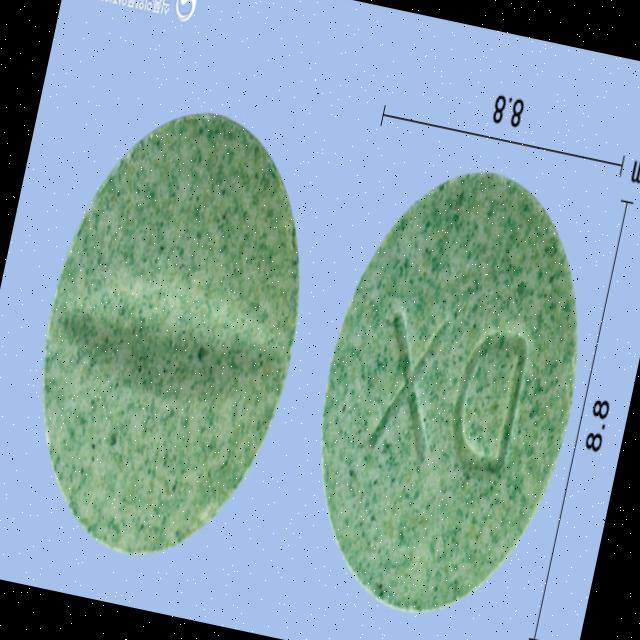Doxymycin N: (282, 148, 614, 638), (4, 94, 337, 580)
